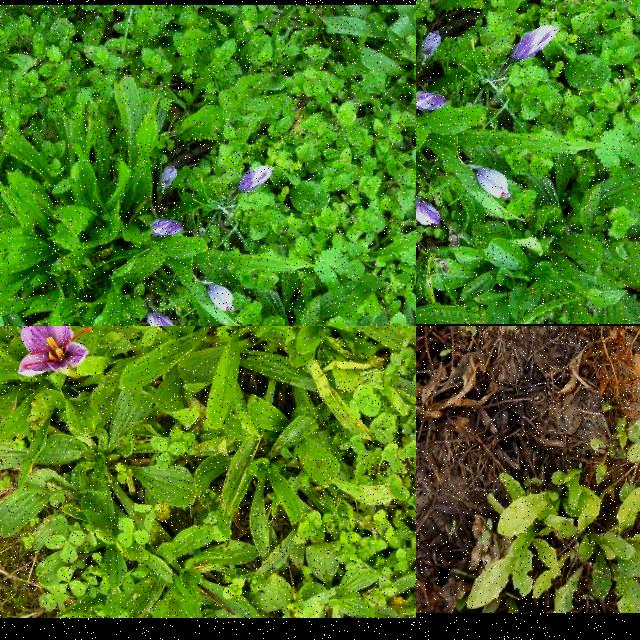flower: (18, 326, 92, 377), (512, 25, 558, 63), (476, 168, 512, 200), (238, 166, 274, 194), (209, 284, 235, 314), (416, 197, 442, 226), (416, 91, 447, 110), (421, 31, 441, 57)
